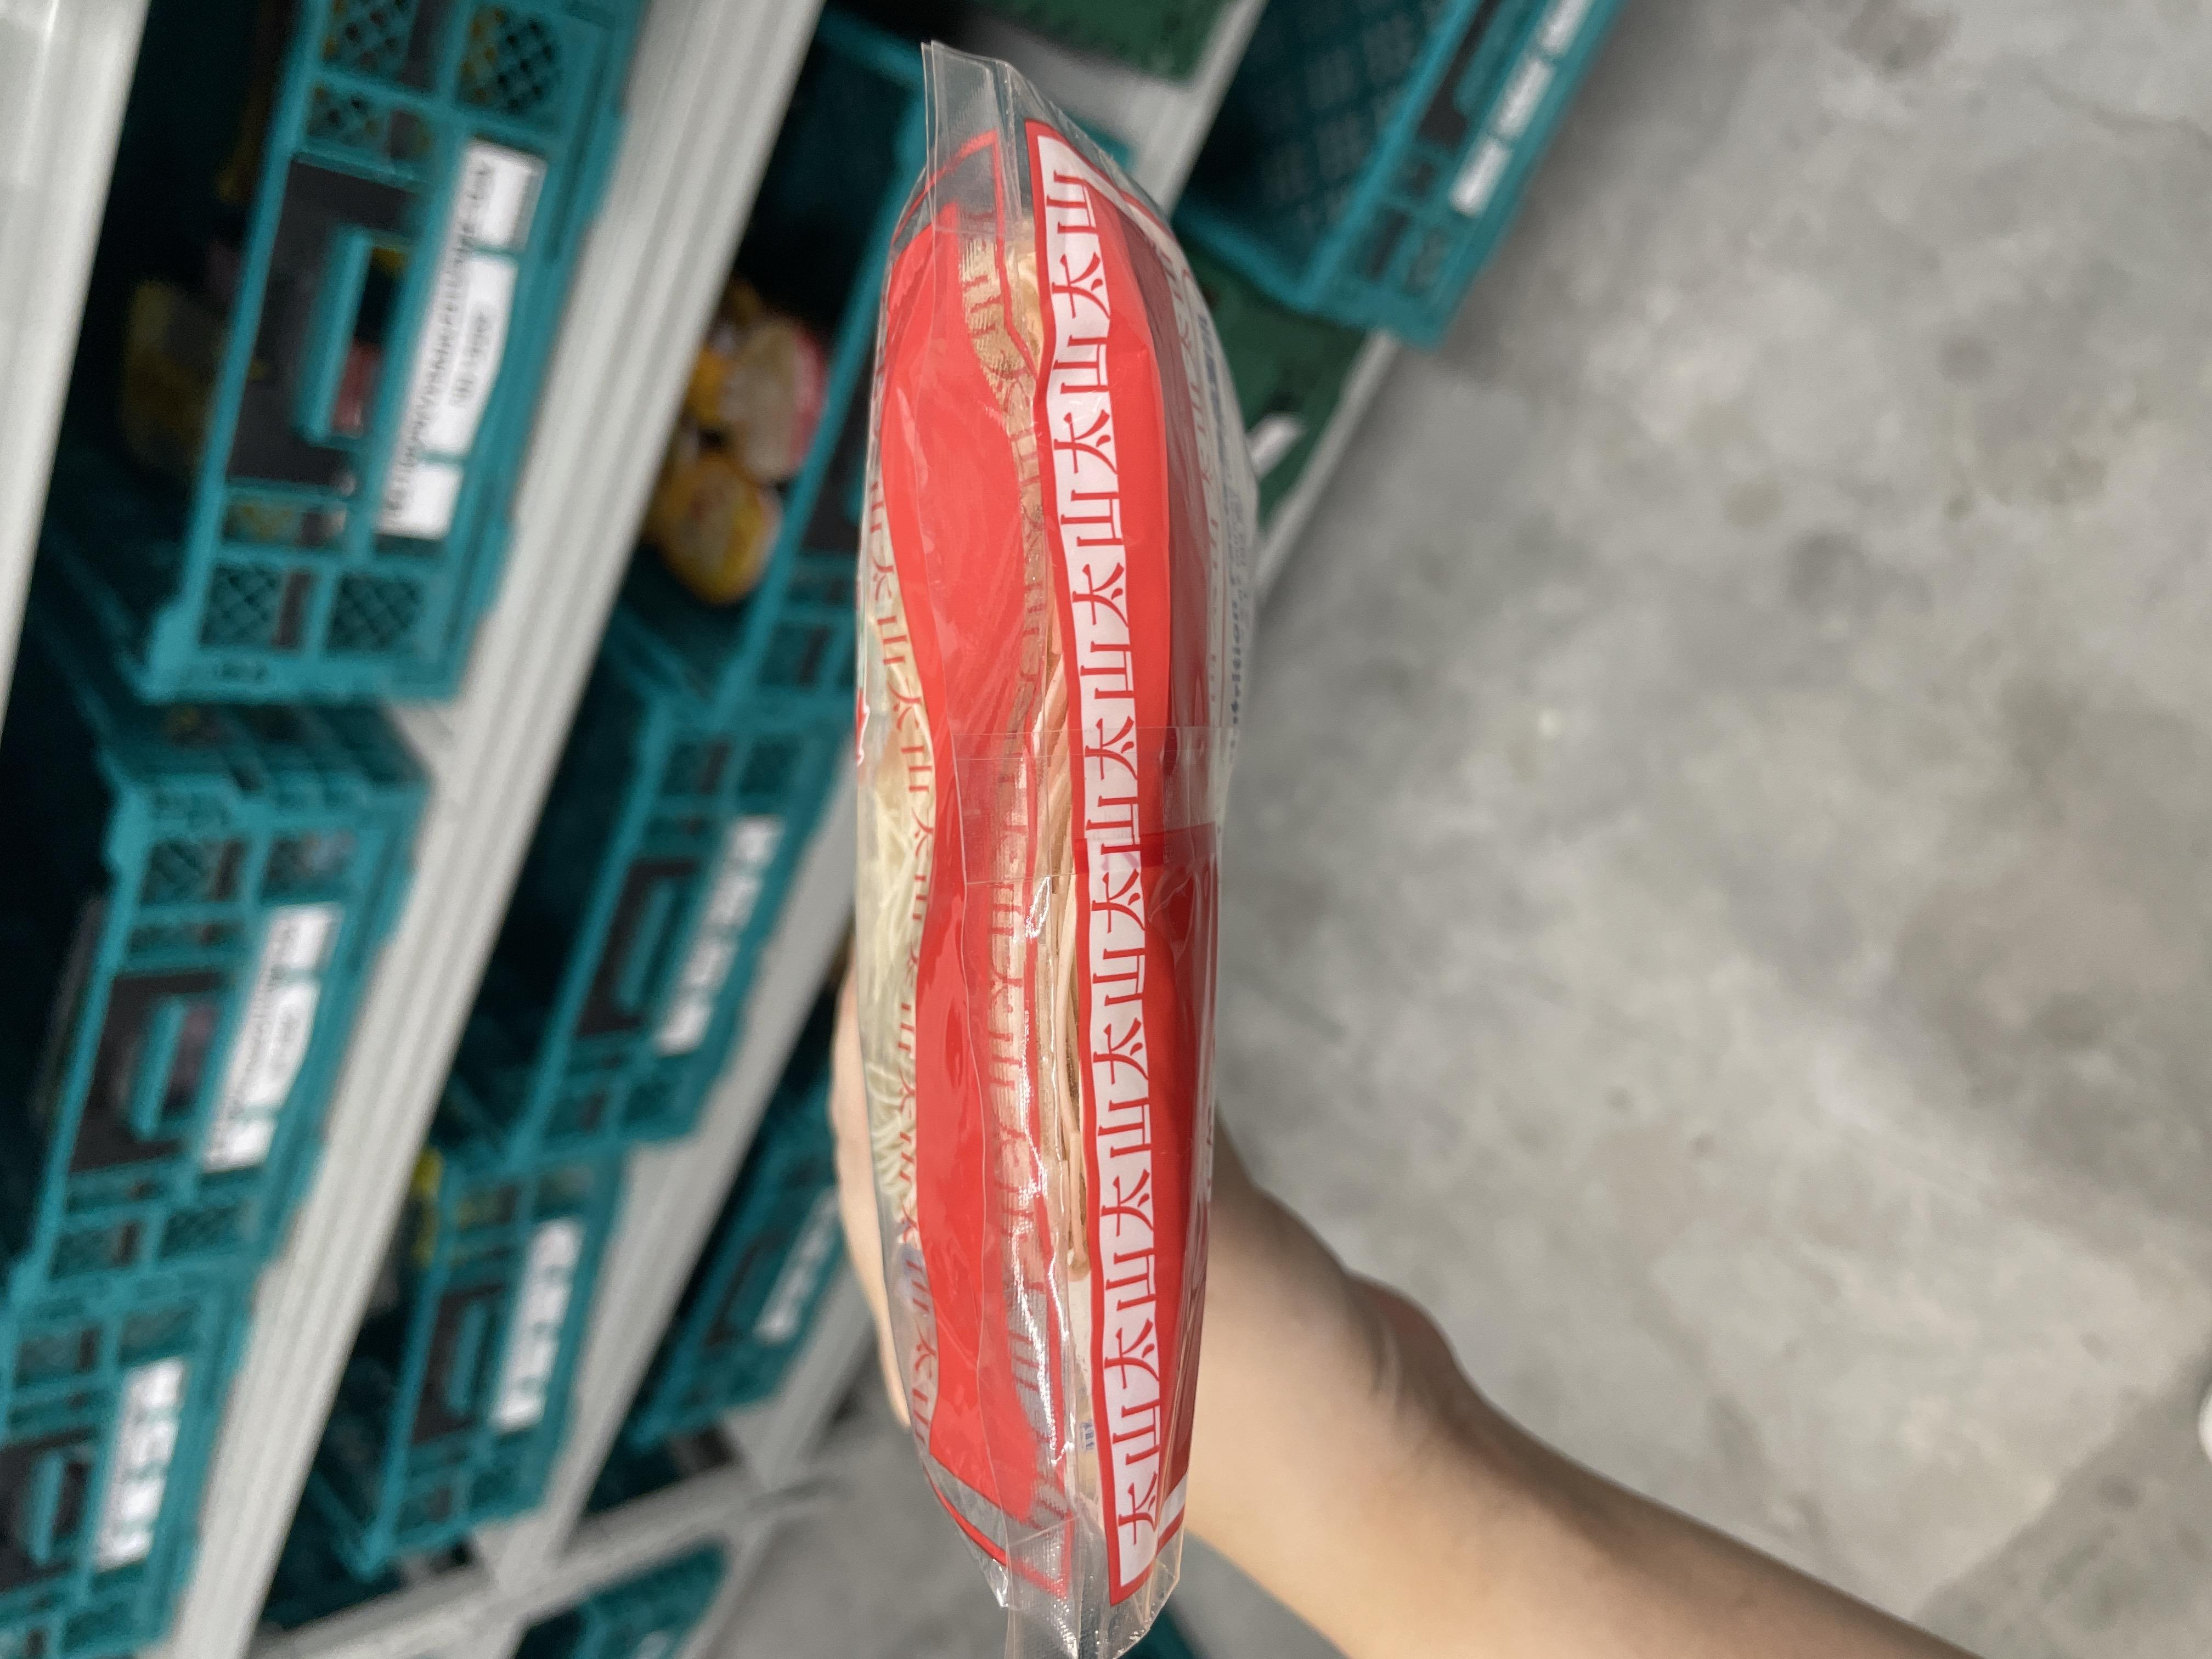object_name: (94, 899, 1508, 1190)
